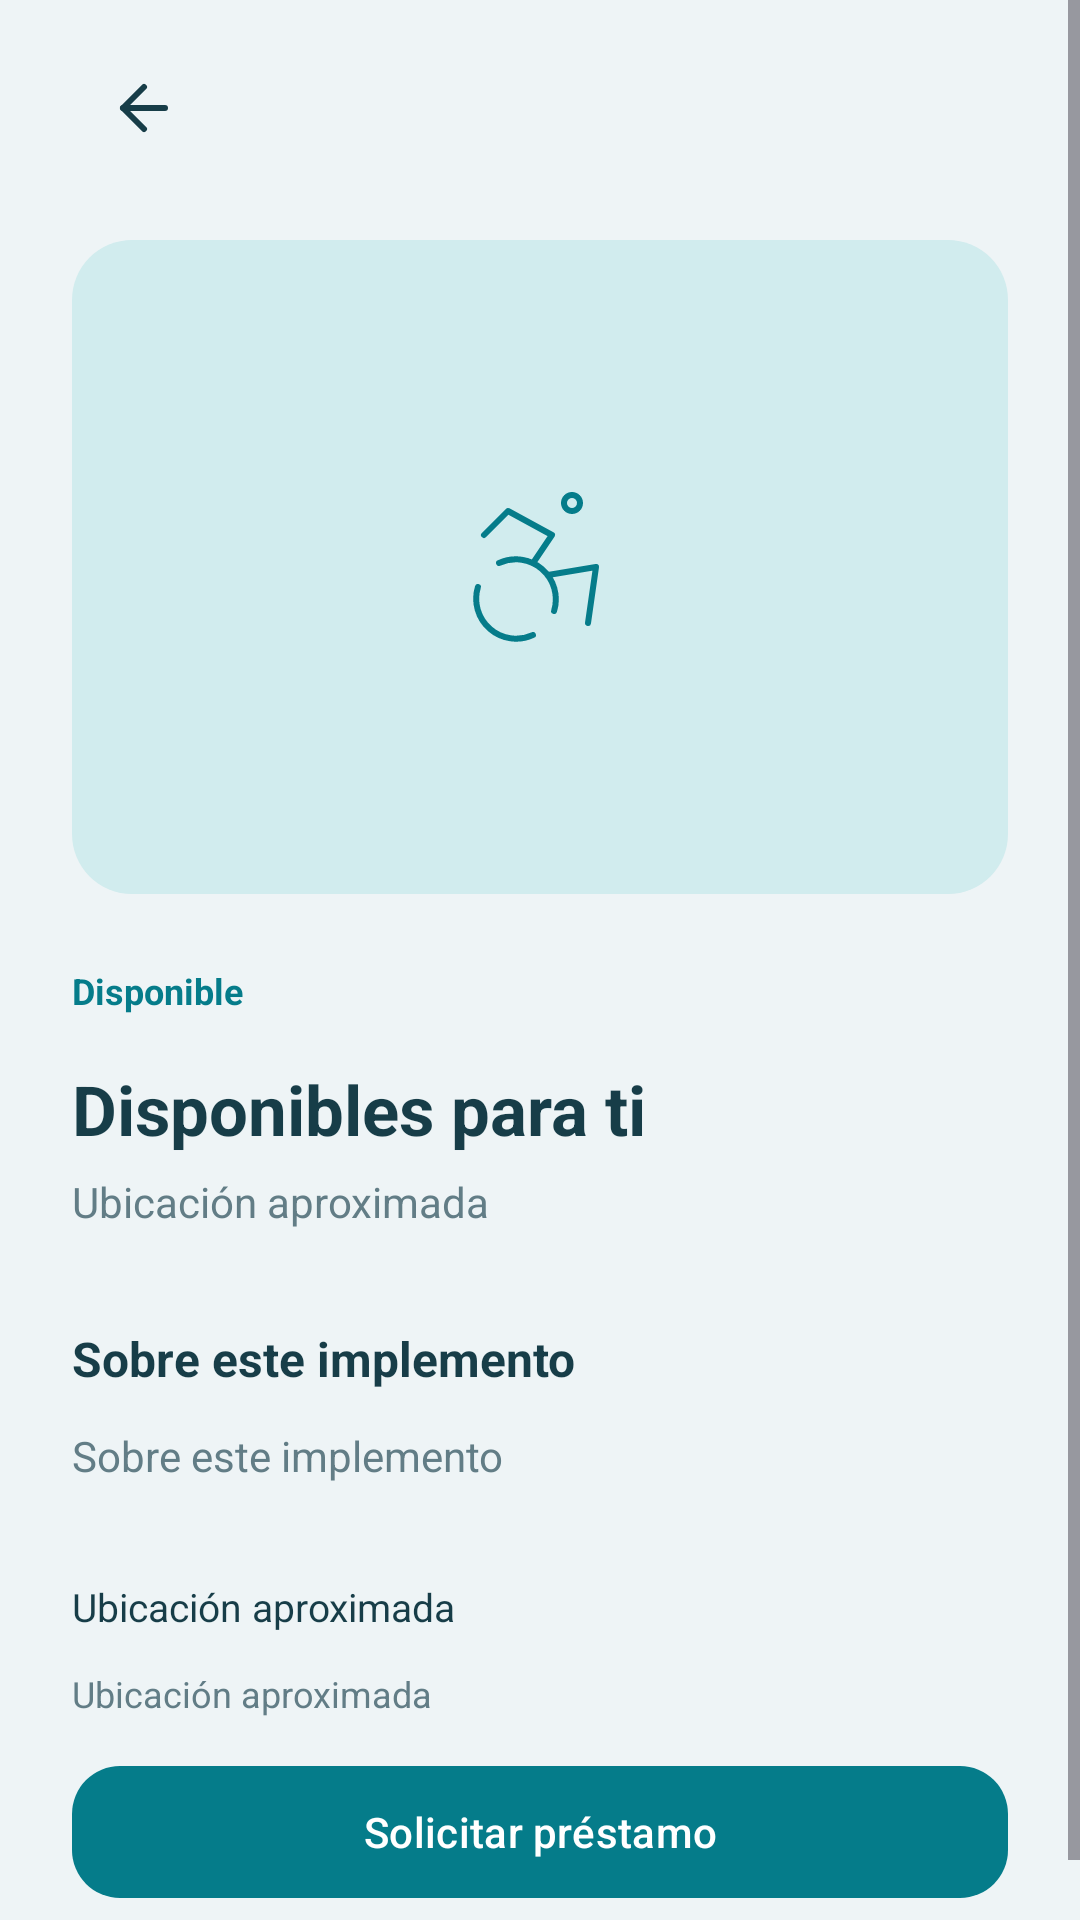

Icon click points for this 1080px x 1920px phone screenshot, format [x,y]:
accessibility: [536,567]
Volver: [144,108]
